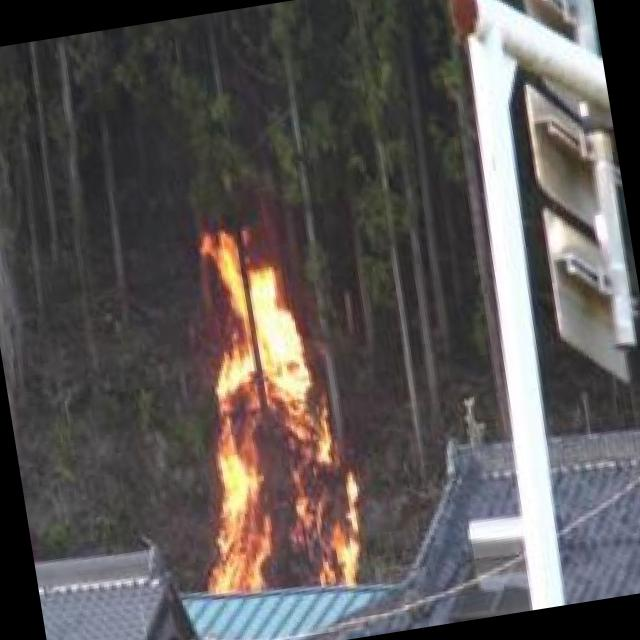Fire: (164, 226, 370, 604)
